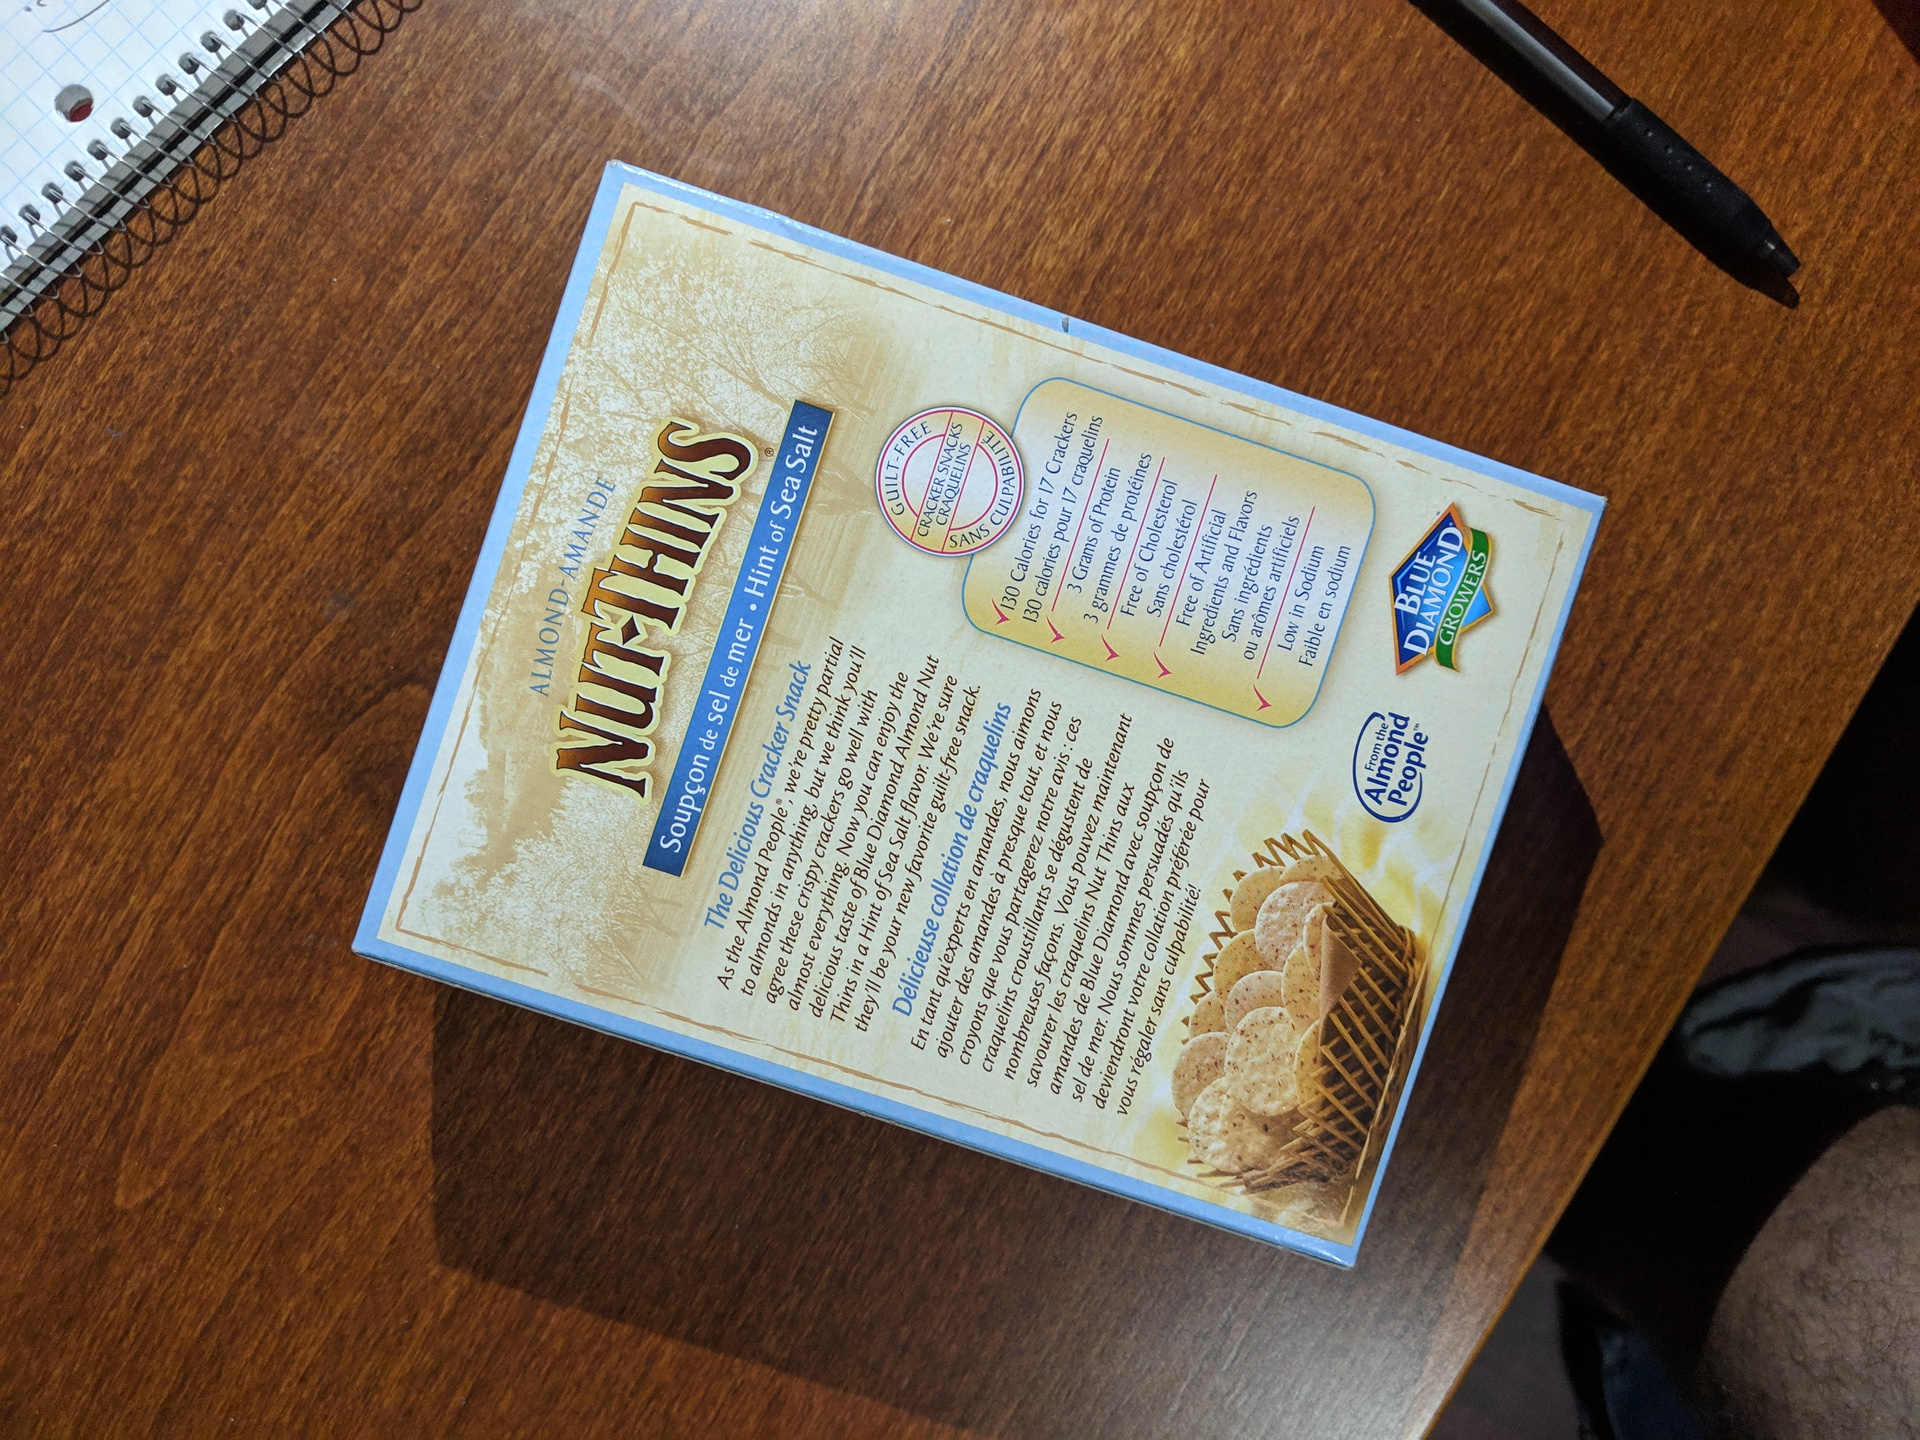blue_diamond_nut_thins_almond_seasalt: (437, 253, 1506, 1148)
